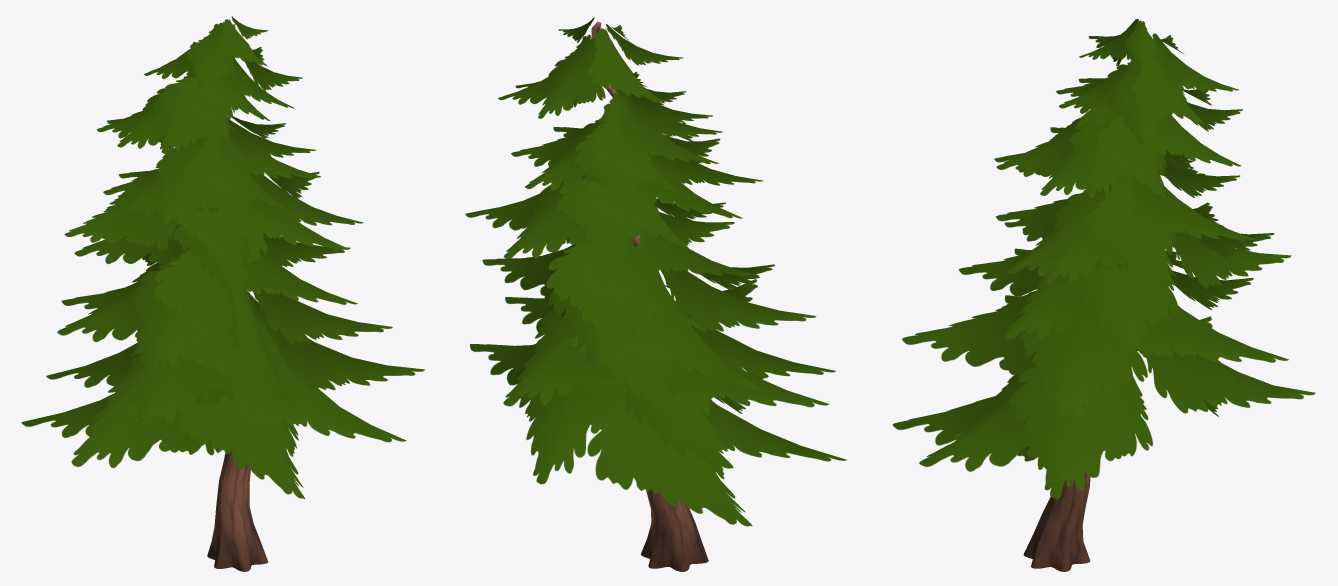
Rendered from pine.glb.
The picture shows the model from 3 angles, left to right: view 1: azimuth 30°, elevation 25°; view 2: azimuth 150°, elevation 25°; view 3: azimuth 270°, elevation 25°; orthographic projection. The views are drawn at different scales.
Parts seen in each view (by area): view 1: Pine_5; view 2: Pine_5; view 3: Pine_5.
Part boxes in pixels (x1,y1,x2,y2): Pine_5: (21, 16, 424, 571); Pine_5: (465, 17, 846, 571); Pine_5: (892, 19, 1315, 571).
Size of the model in its own units: 6.42 by 8.72 by 6.22.
2 materials, 2 textured.
